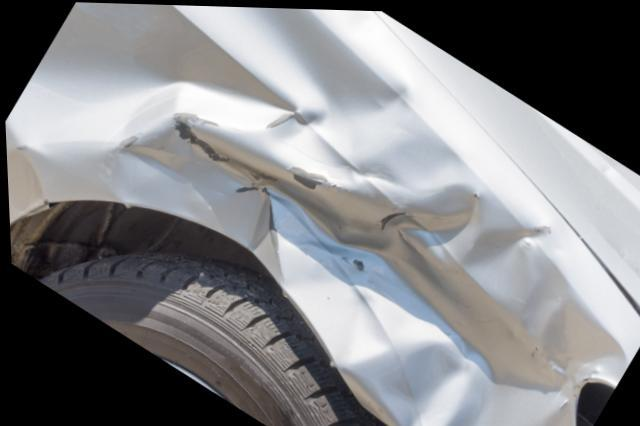dent: (4, 2, 621, 426)
